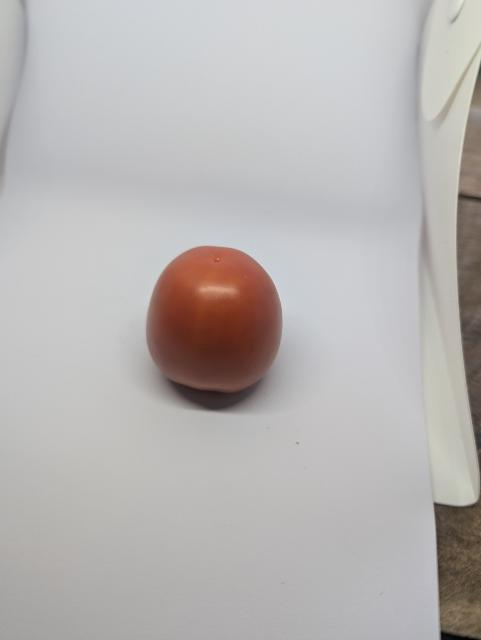red: (137, 235, 296, 400)
